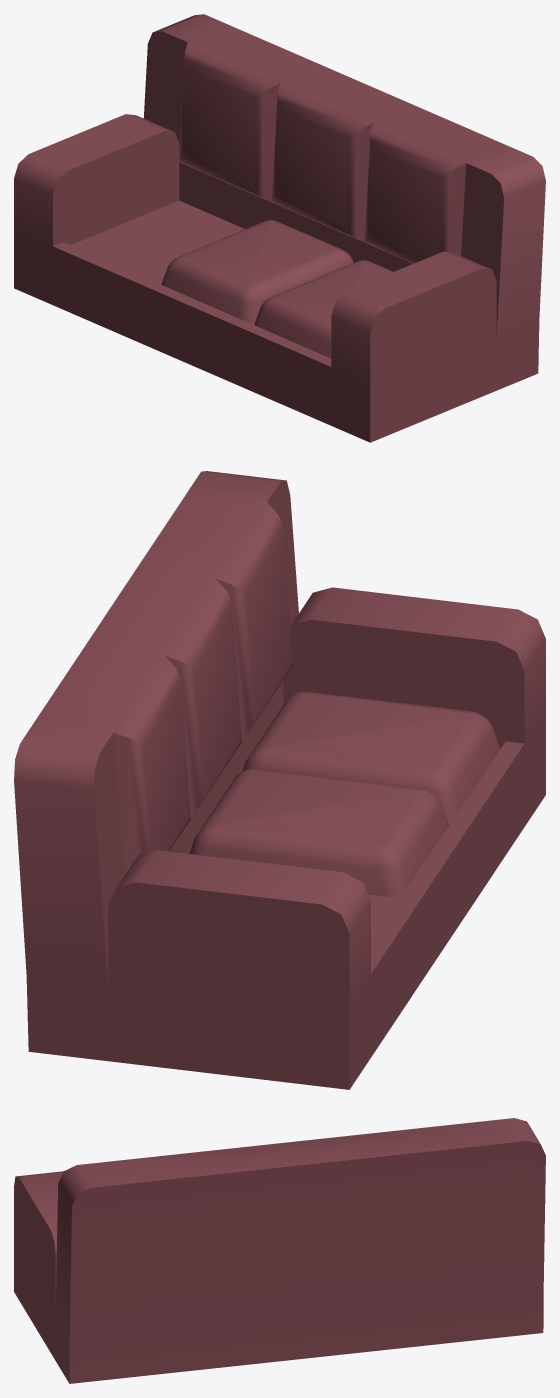
The model's file is divan.fbx.
The picture shows the model from 3 angles, top to bottom: view 1: azimuth 30°, elevation 25°; view 2: azimuth 150°, elevation 25°; view 3: azimuth 270°, elevation 25°; orthographic projection. The views are drawn at different scales.
Parts seen in each view (by area): view 1: Cube.007; view 2: Cube.007; view 3: Cube.007.
Part boxes in pixels (x1=…): Cube.007: x1=14, y1=14, x2=545, y2=442; Cube.007: x1=14, y1=471, x2=545, y2=1089; Cube.007: x1=14, y1=1118, x2=545, y2=1383.
Size of the model in its own units: 445 by 280 by 679.
